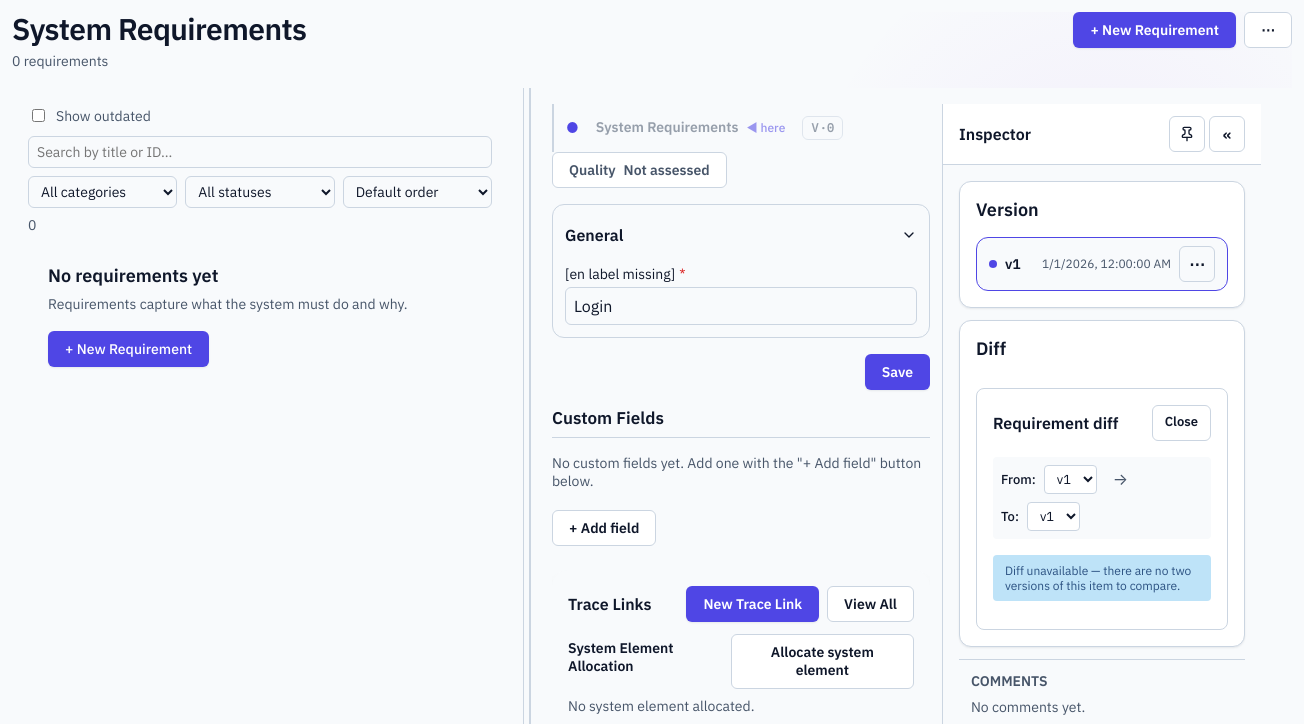
Test: VersionPanel refresh after save (#1256) › Requirement: shows the new version row after a successful save
This screenshot has width=1304, height=724.
expect the field with test id "artifact-field-title" is shown: met, box [565, 287, 917, 325]
expect the list item with test id "version-row-1" is shown: met, box [976, 236, 1228, 290]
Click the button with test id "artifact-form-save": (897, 372) [865, 354, 930, 390]
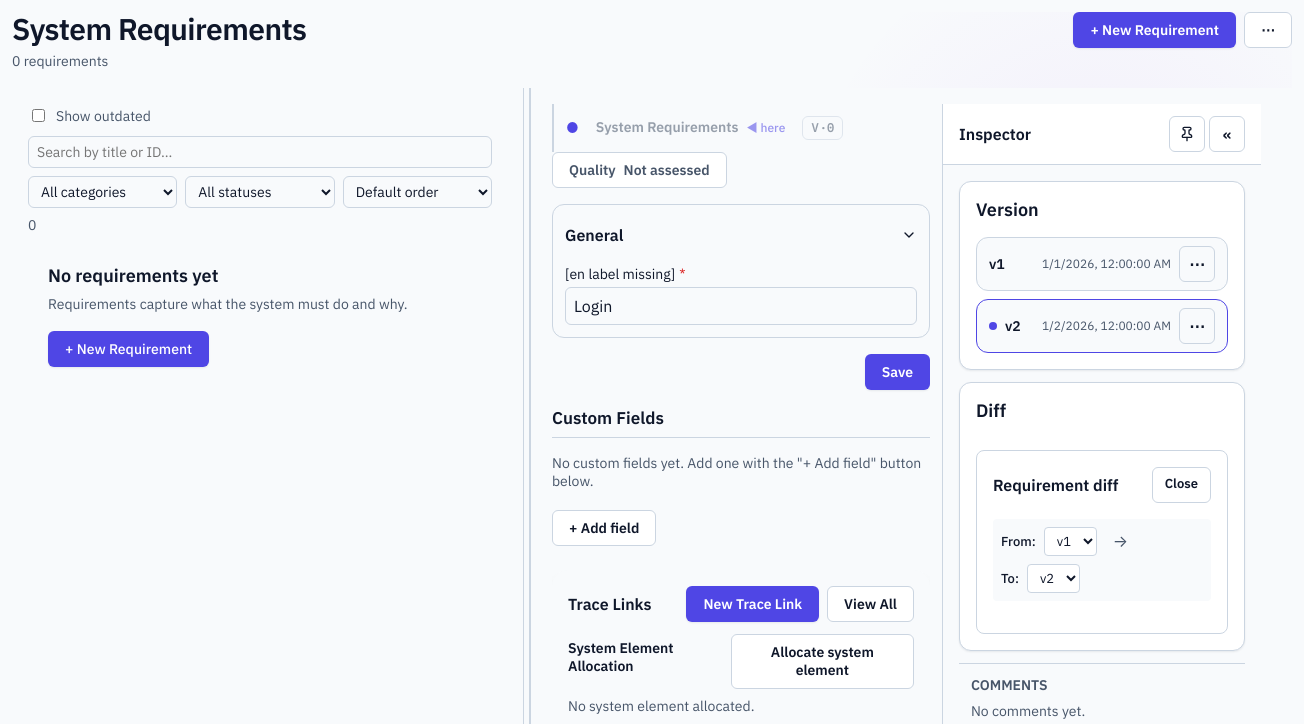
expect the list item with test id "version-row-2" is shown: met, box [976, 298, 1228, 352]
